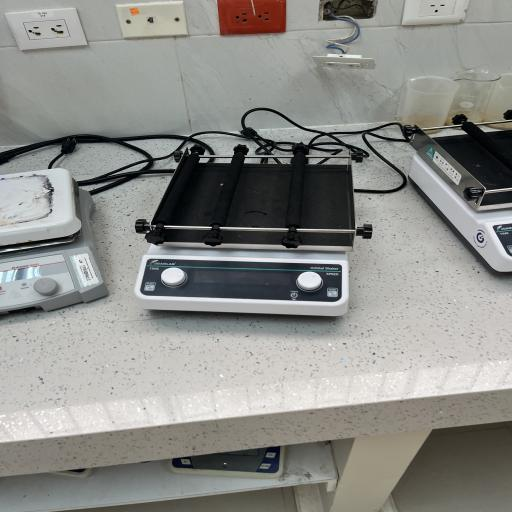Agitador_Orbital_DLAB: (121, 142, 384, 332)
